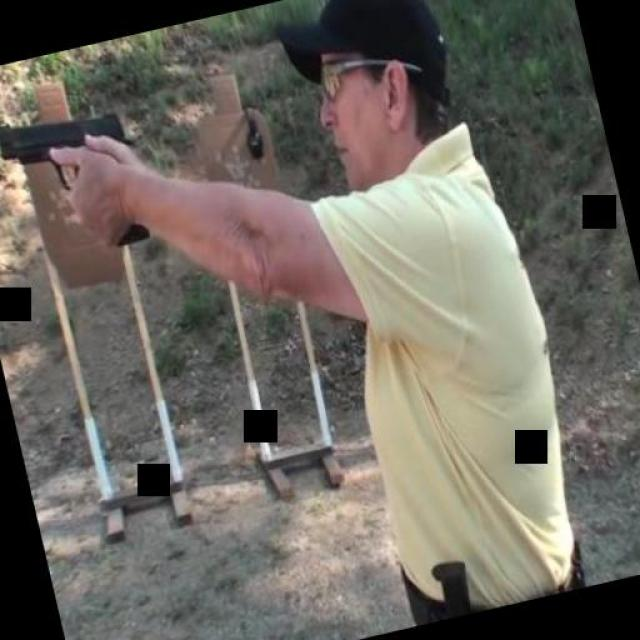gun: (0, 96, 150, 268)
